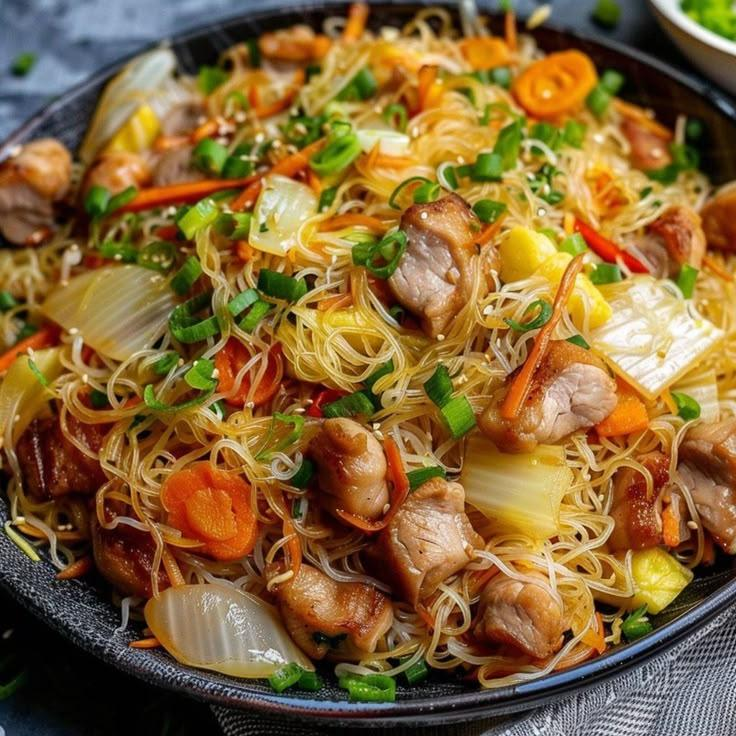pancit bihon: (5, 25, 736, 697)
